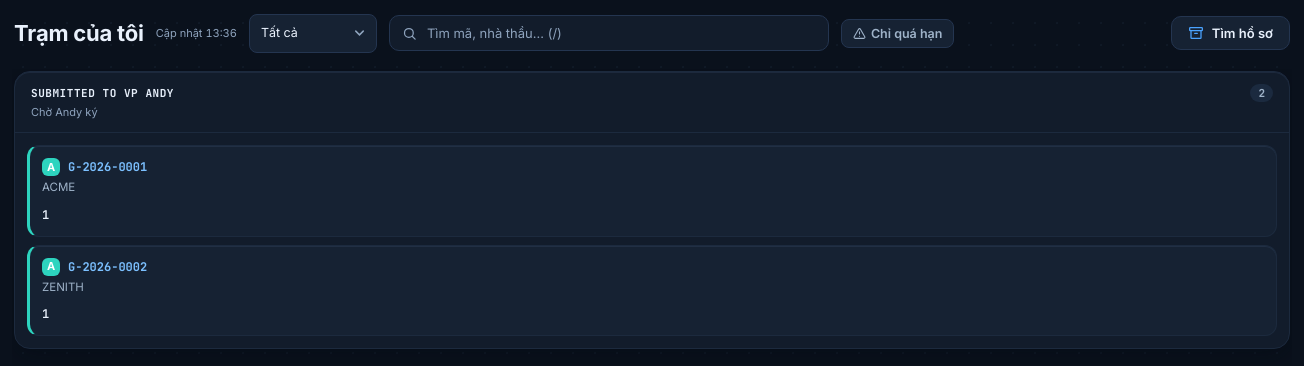
StationBoard — filter reflects the count & empty state (UX H1) › shows a board-level no-match notice when nothing matches (not a silent blank)
The image size is (1304, 366).
Expected: the button "G-2026-0001" is shown, [68,159,147,175]
In the field named "Tìm hồ sơ trong bảng": (620, 33) [425,24,816,42], type "zzz-nope"
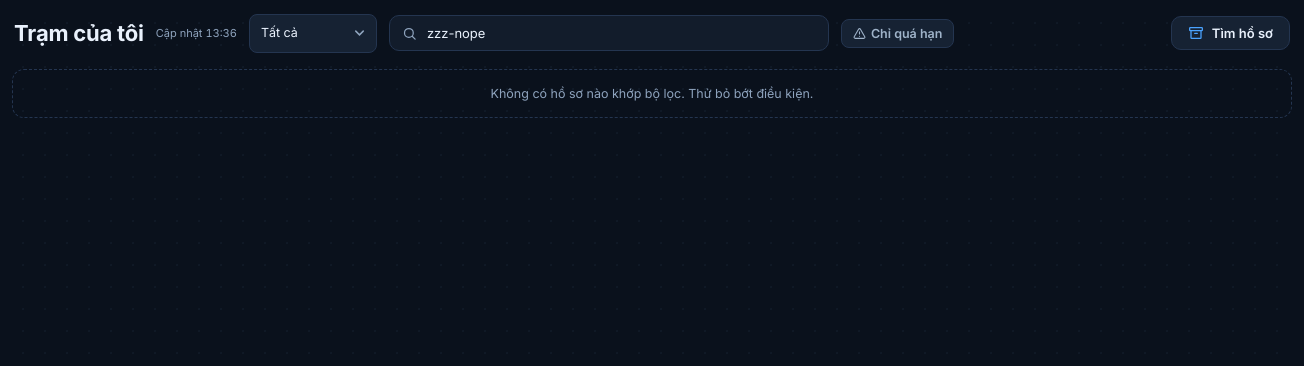
Expected: the text "Không có hồ sơ nào khớp bộ lọc. Thử bỏ bớt điều kiện." is shown, [491,85,814,102]
